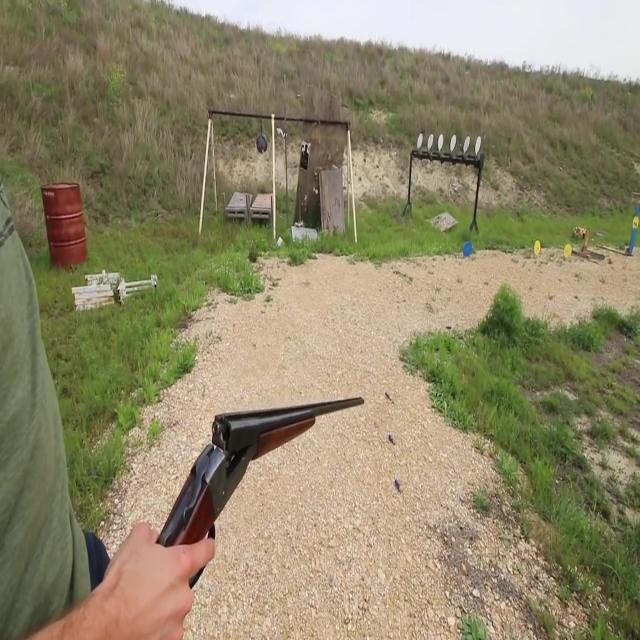Weapon: (123, 389, 399, 606)
